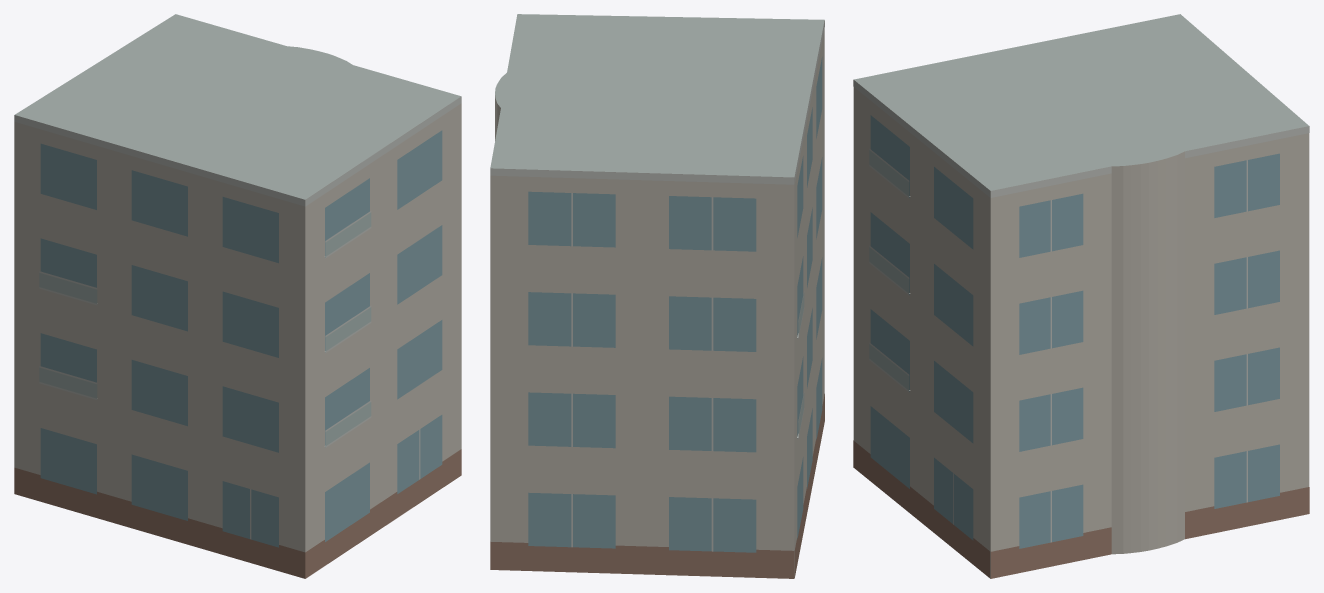
File: survey-upis-33024582.glb
The picture shows the model from 3 angles, left to right: view 1: azimuth 30°, elevation 25°; view 2: azimuth 150°, elevation 25°; view 3: azimuth 270°, elevation 25°; orthographic projection. The views are drawn at different scales.
Visible parts, largest first — view 1: survey-upis-33024582.tmp; view 2: survey-upis-33024582.tmp; view 3: survey-upis-33024582.tmp.
Boxes of the visible parts, left/top/right/bottom form: survey-upis-33024582.tmp: left=14, top=14, right=461, bottom=578; survey-upis-33024582.tmp: left=490, top=14, right=824, bottom=578; survey-upis-33024582.tmp: left=853, top=14, right=1309, bottom=578.
Size of the model in its own units: 13.17 by 13.45 by 14.34.
